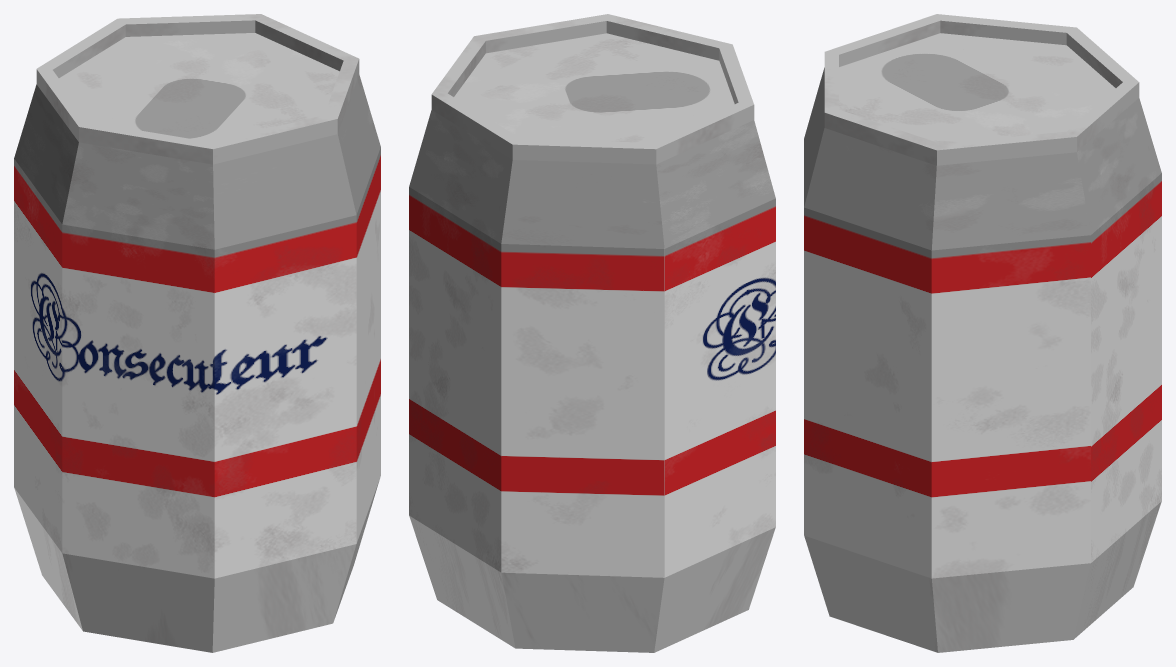
File: can.fbx
The picture shows the model from 3 angles, left to right: view 1: azimuth 30°, elevation 25°; view 2: azimuth 150°, elevation 25°; view 3: azimuth 270°, elevation 25°; orthographic projection.
Parts seen in each view (by area): view 1: Circle; view 2: Circle; view 3: Circle.
Boxes of the visible parts, x1,y1,x2,y2 form: Circle: (14, 14, 380, 652); Circle: (409, 14, 775, 652); Circle: (804, 14, 1161, 652).
Size of the model in its own units: 229 by 348 by 224.
